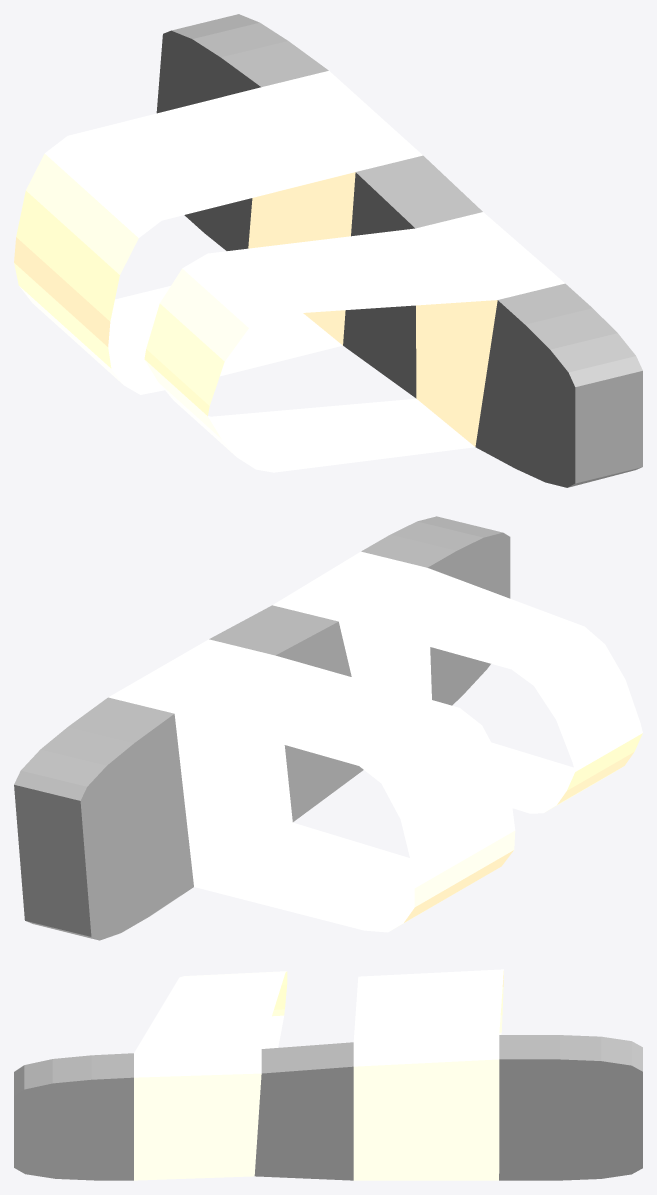
Rendered from tala_arm.fbx.
The picture shows the model from 3 angles, top to bottom: view 1: azimuth 30°, elevation 25°; view 2: azimuth 150°, elevation 25°; view 3: azimuth 270°, elevation 25°; orthographic projection. The views are drawn at different scales.
Visible parts, largest first — view 1: Tala_braço; view 2: Tala_braço; view 3: Tala_braço.
Part boxes in pixels (x1=…): Tala_braço: x1=14, y1=14, x2=642, y2=487; Tala_braço: x1=14, y1=516, x2=642, y2=940; Tala_braço: x1=14, y1=969, x2=642, y2=1180.
Bounding box in the file's own units: 531 × 283 × 1175.
